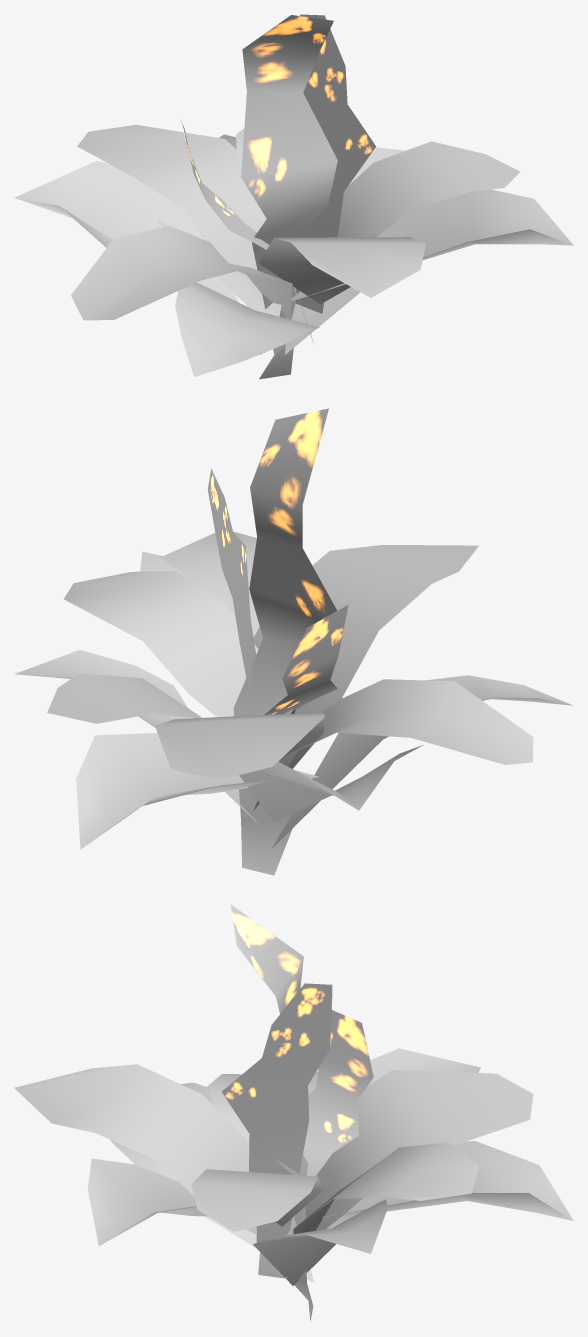
File: LeafsBigBush02.fbx
The picture shows the model from 3 angles, top to bottom: view 1: azimuth 30°, elevation 25°; view 2: azimuth 150°, elevation 25°; view 3: azimuth 270°, elevation 25°; orthographic projection. The views are drawn at different scales.
Visible parts, largest first — view 1: Plane.075; view 2: Plane.075; view 3: Plane.075.
Boxes of the visible parts, box(x1,y1,x2,y2) form: Plane.075: box(14, 14, 573, 379); Plane.075: box(14, 408, 572, 875); Plane.075: box(14, 904, 573, 1321).
Bounding box in the file's own units: 7.3 × 6.5 × 8.27.
